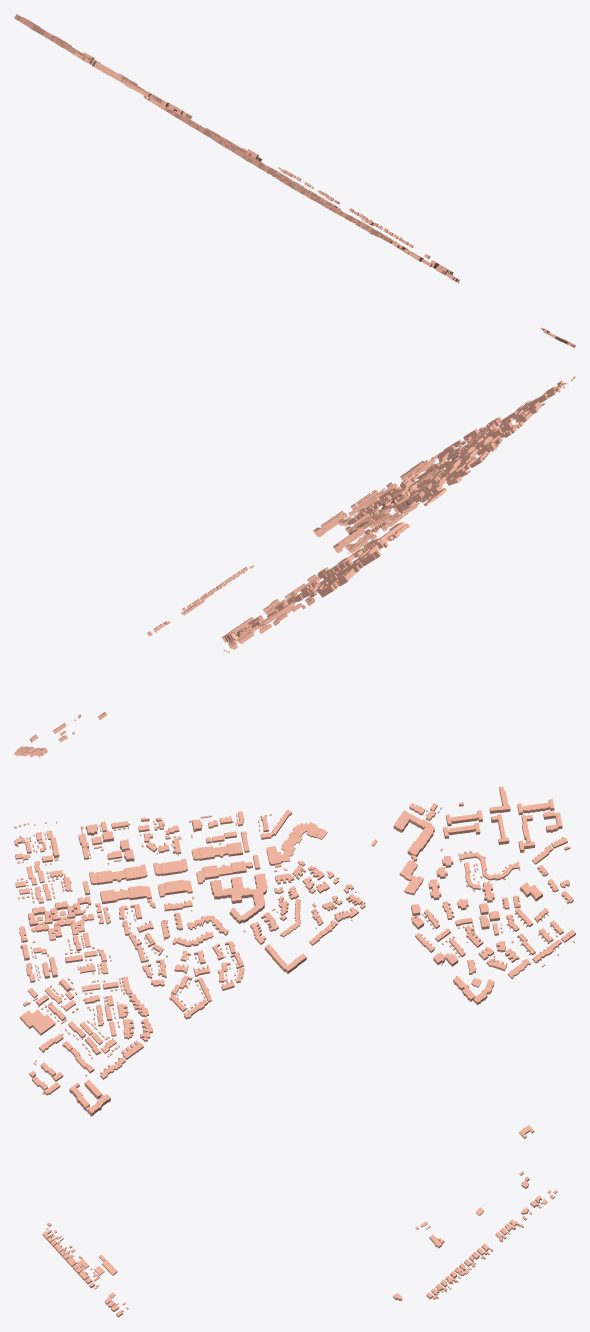
3 renders of one model, top to bottom at view 1: azimuth 30°, elevation 25°; view 2: azimuth 150°, elevation 25°; view 3: azimuth 270°, elevation 25°, orthographic. The views are drawn at different scales.
Bounding box in the file's own units: 1056 × 779 × 1214.
